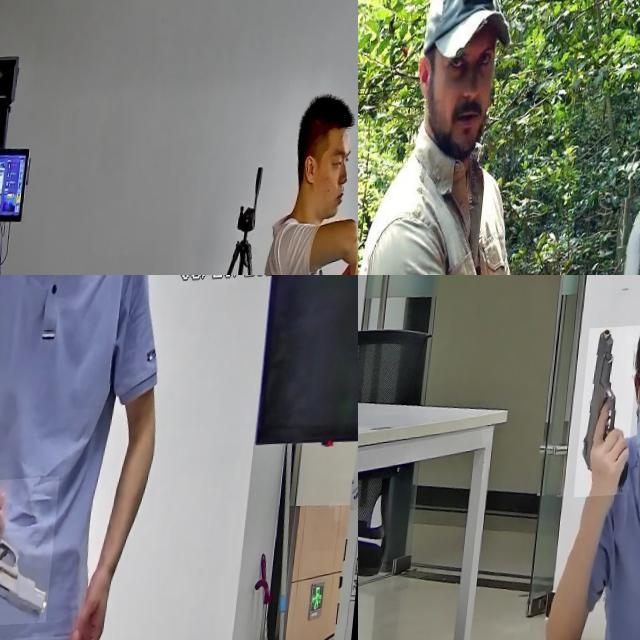gun-knife-thesis - v11 Yolov5 augmented: (582, 329, 640, 501), (0, 480, 64, 631)
